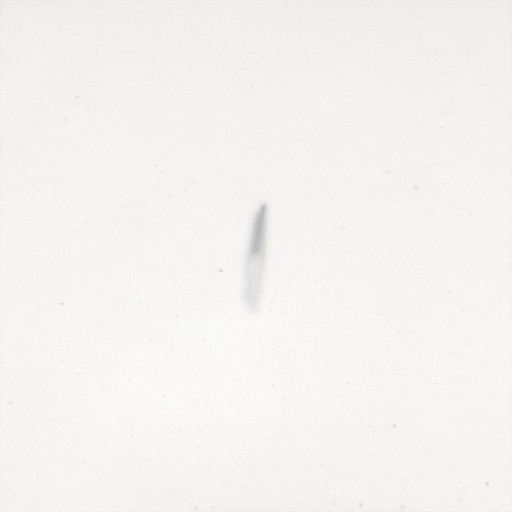lego: (241, 201, 270, 316)
